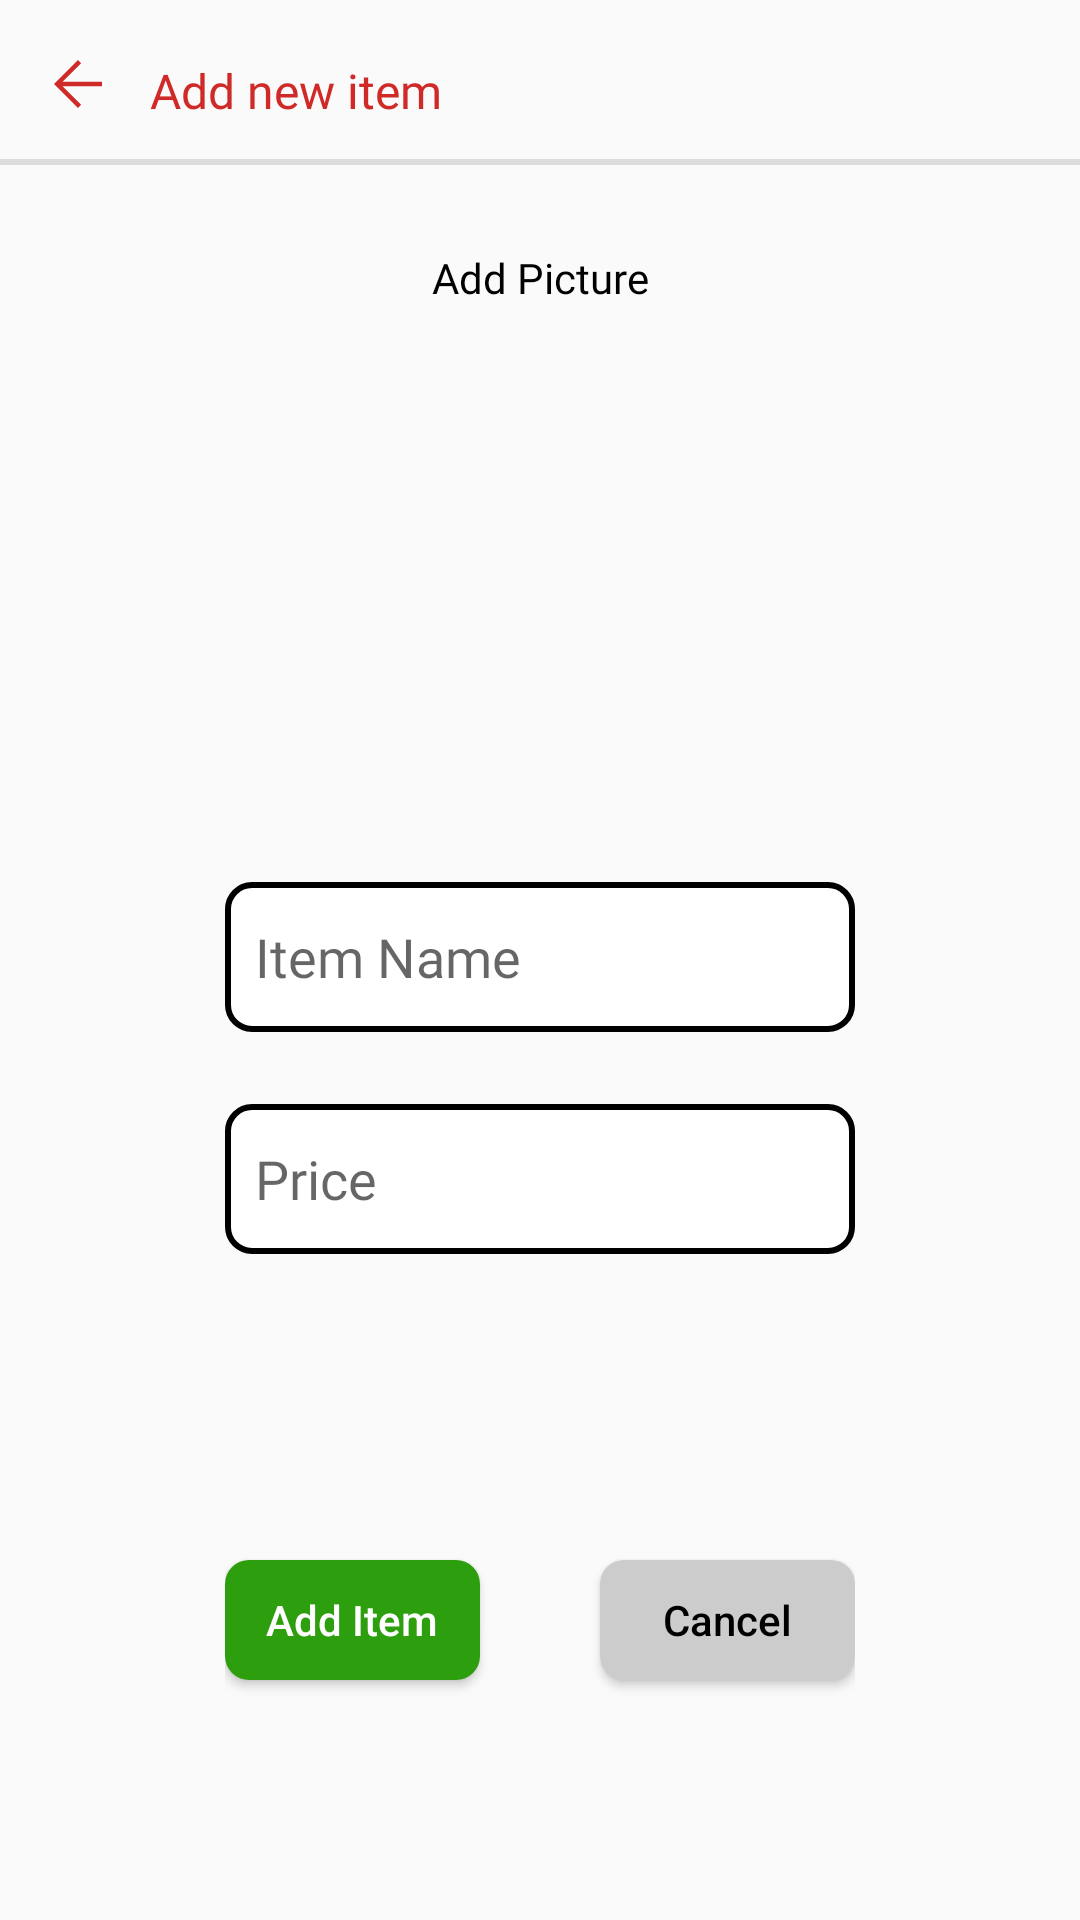

Icon bounding boxes for this 1080x1920 phone screenshot, format (x1, y1, x2, y2):
arrow back: (54, 60, 102, 108)
